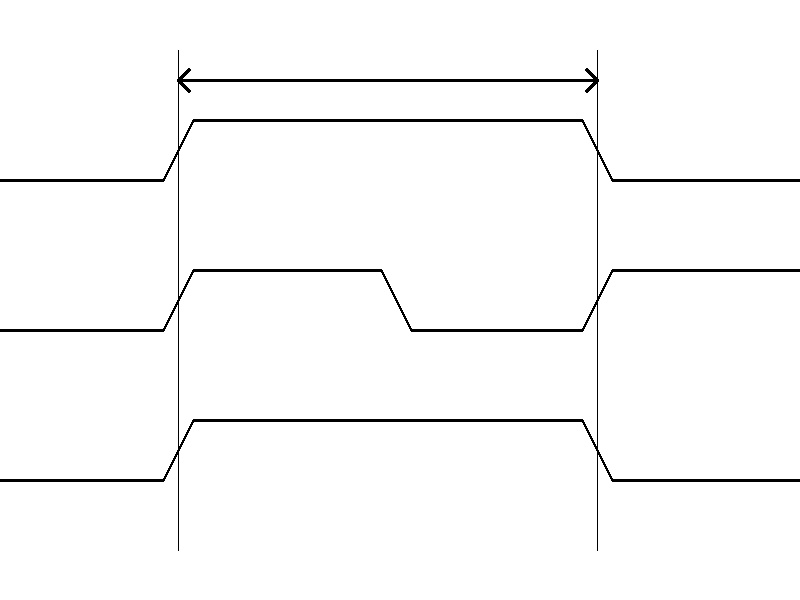double_arrow: (178, 65, 597, 95)
